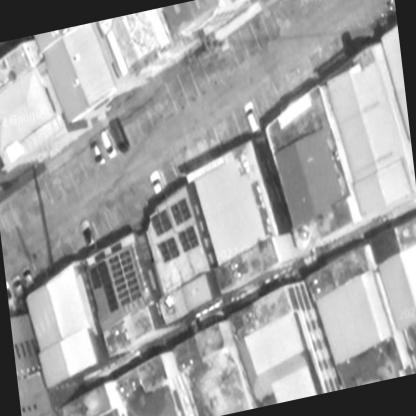solar-pv-panel: (90, 248, 143, 313), (177, 227, 200, 253), (157, 238, 181, 262), (171, 199, 192, 225), (150, 211, 172, 235)
